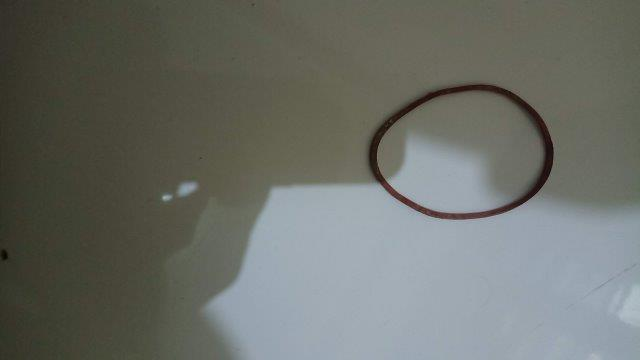karet: (370, 84, 555, 220)
